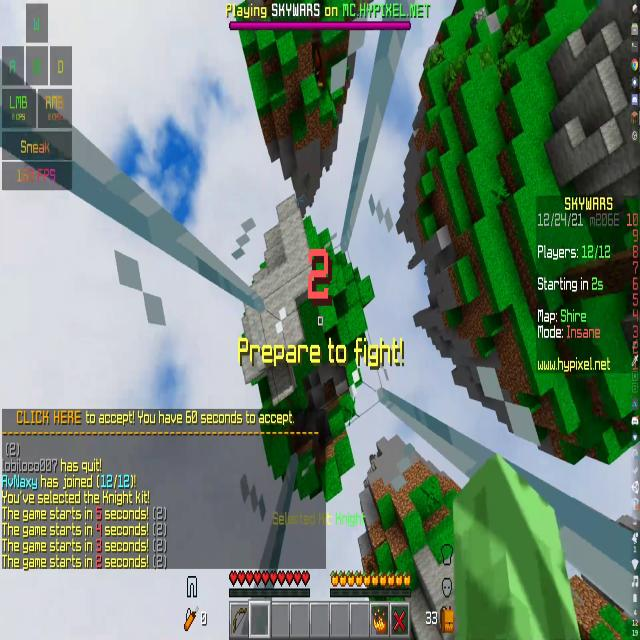Player: (311, 38, 332, 98)
